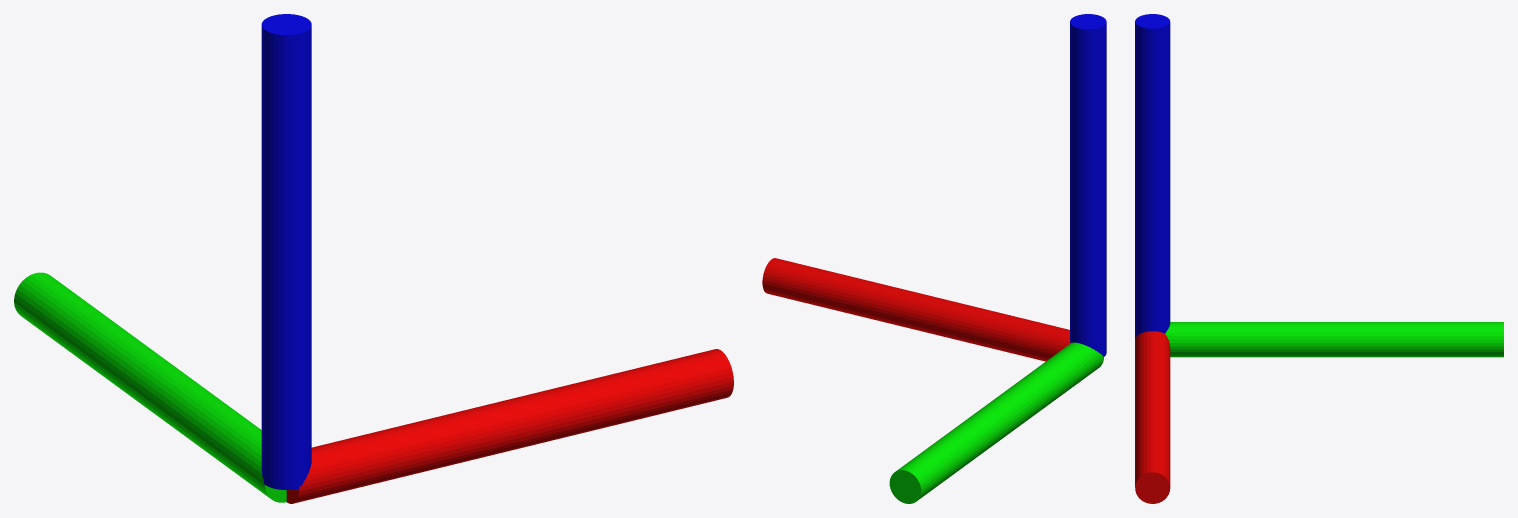
File: axes.dae
3 views of the same model, side by side, from view 1: azimuth 30°, elevation 25°; view 2: azimuth 150°, elevation 25°; view 3: azimuth 270°, elevation 25° (orthographic). The views are drawn at different scales.
Parts seen in each view (by area): view 1: Cylinder_001; view 2: Cylinder_001; view 3: Cylinder_001.
Boxes of the visible parts, <box> form: Cylinder_001: <box>14,14,733,503</box>; Cylinder_001: <box>762,14,1106,503</box>; Cylinder_001: <box>1135,14,1503,503</box>.
Bounding box in the file's own units: 1.05 × 1.05 × 1.05.
